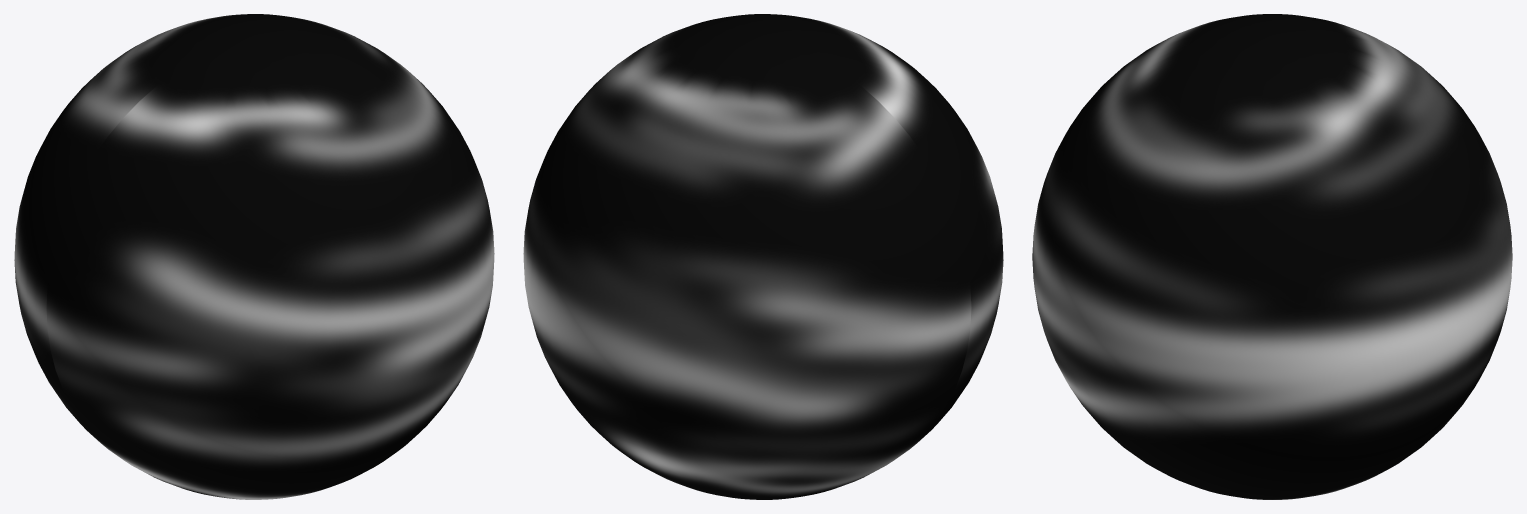
The model's file is mdl_planet_dome_inner.fbx.
3 views of the same model, side by side, from view 1: azimuth 30°, elevation 25°; view 2: azimuth 150°, elevation 25°; view 3: azimuth 270°, elevation 25° (orthographic).
Parts seen in each view (by area): view 1: Planet_Dome_inner; view 2: Planet_Dome_inner; view 3: Planet_Dome_inner.
Part boxes in pixels (left/top/right/bottom): Planet_Dome_inner: left=14, top=14, right=494, bottom=499; Planet_Dome_inner: left=523, top=14, right=1003, bottom=499; Planet_Dome_inner: left=1032, top=14, right=1512, bottom=499.
Size of the model in its own units: 27796 by 28278 by 27796.
